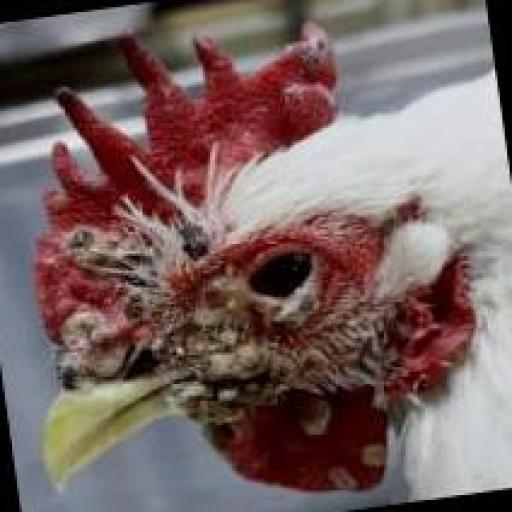disease: (24, 188, 257, 446), (262, 354, 392, 470), (222, 230, 362, 334), (269, 30, 353, 76)
